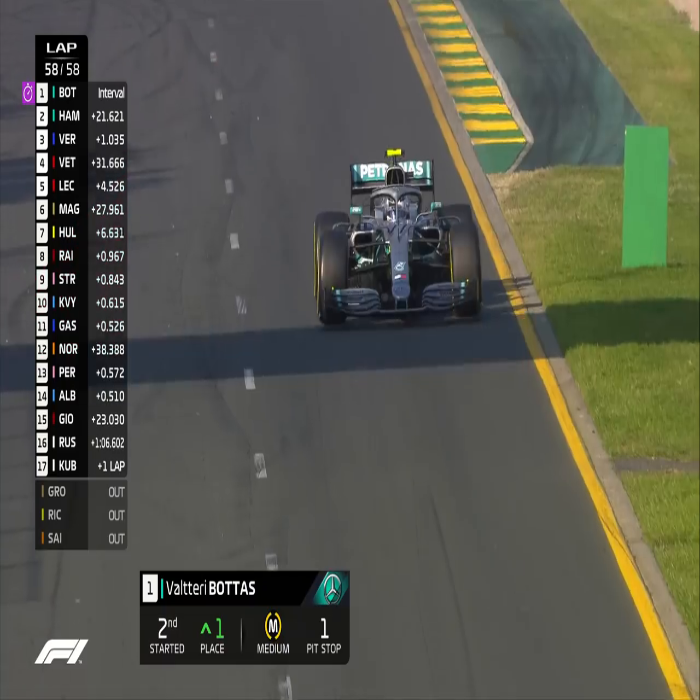f1_car: (297, 150, 494, 327)
